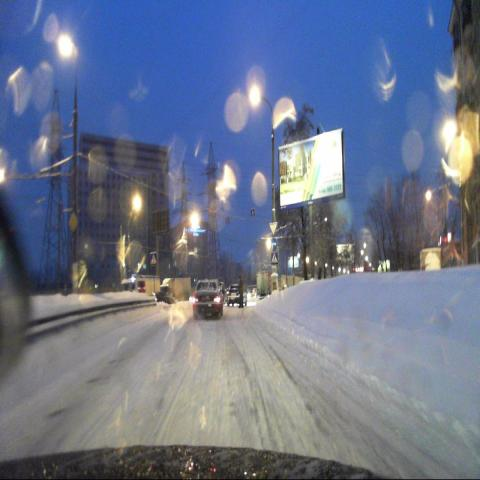2_4: (268, 220, 278, 236)
4_1_2: (270, 237, 278, 251)
5_19_1: (270, 252, 278, 266)
